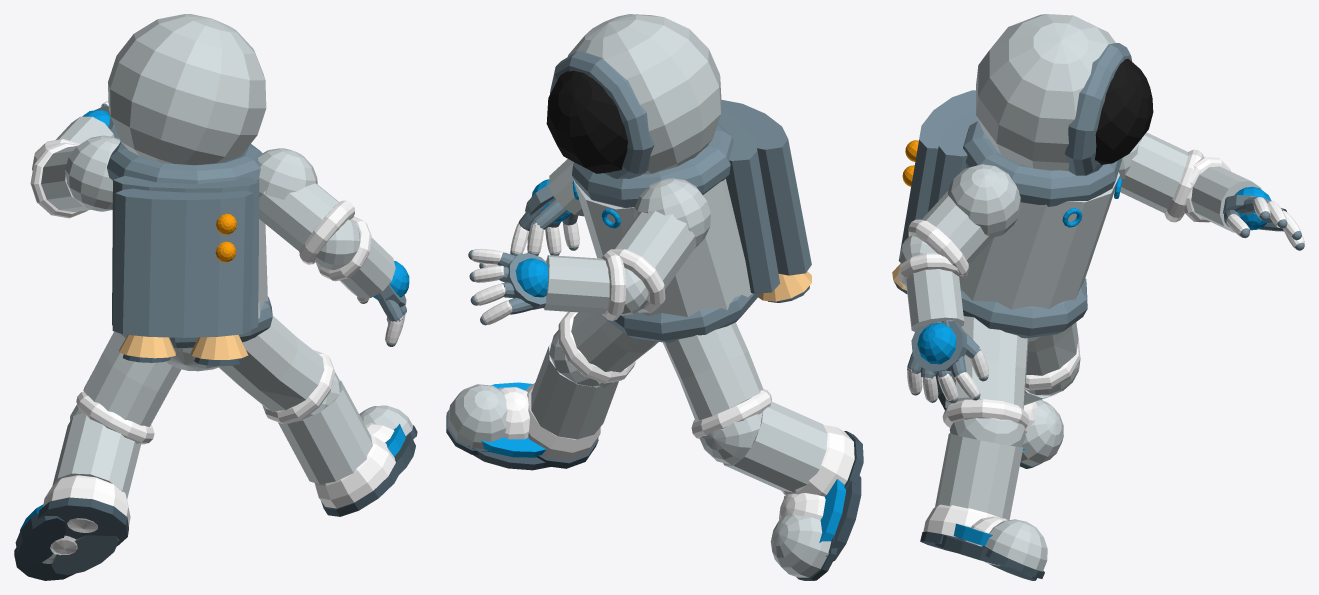
Rendered from astronaut.glb.
3 views of the same model, side by side, from view 1: azimuth 30°, elevation 25°; view 2: azimuth 150°, elevation 25°; view 3: azimuth 270°, elevation 25° (orthographic). The views are drawn at different scales.
Parts seen in each view (by area): view 1: group1167641645, group1098147410, group1437890092, group1277767469, group1453338879, group1753656922, group1943308988; view 2: group1167641645, group1098147410, group1437890092, group638132290, group1753656922, group1277767469, group1453338879; view 3: group1167641645, group1098147410, group1437890092, group638132290, group1753656922, group1277767469.
Boxes of the visible parts, x1,y1,x2,y2 form: group1167641645: [41, 14, 413, 563]; group1098147410: [51, 104, 406, 575]; group1437890092: [30, 101, 406, 555]; group1277767469: [14, 354, 417, 580]; group1453338879: [119, 334, 248, 359]; group1753656922: [20, 110, 409, 530]; group1943308988: [215, 213, 236, 262]; group1167641645: [448, 14, 831, 577]; group1098147410: [468, 50, 811, 342]; group1437890092: [471, 221, 854, 519]; group638132290: [546, 70, 628, 173]; group1753656922: [481, 179, 845, 542]; group1277767469: [446, 286, 863, 580]; group1453338879: [758, 271, 811, 301]; group1167641645: [899, 14, 1261, 571]; group1098147410: [898, 43, 1304, 403]; group1437890092: [897, 149, 1304, 565]; group638132290: [1095, 58, 1153, 164]; group1753656922: [917, 178, 1271, 546]; group1277767469: [894, 281, 1044, 580].
Bounding box in the file's own units: 0.8689 × 1.09 × 0.7852.
